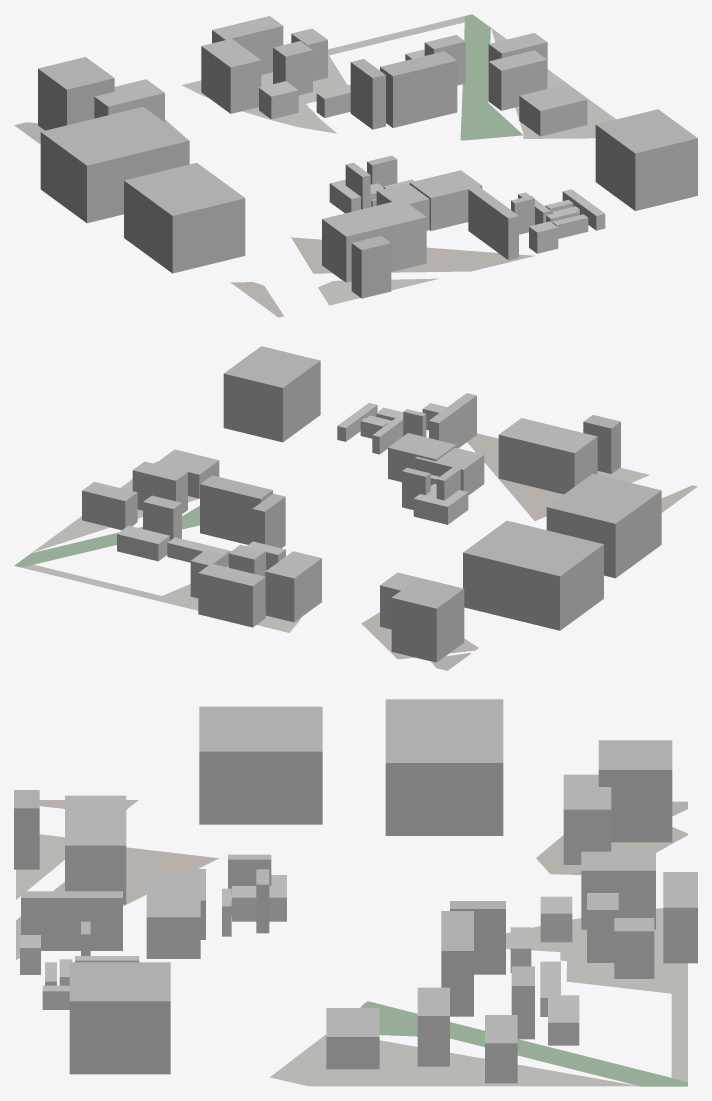
Rendered from 104_93_mid.glb.
3 renders of one model, top to bottom at view 1: azimuth 30°, elevation 25°; view 2: azimuth 150°, elevation 25°; view 3: azimuth 270°, elevation 25°, orthographic. The views are drawn at different scales.
Bounding box in the file's own units: 550 × 61.68 × 509.
